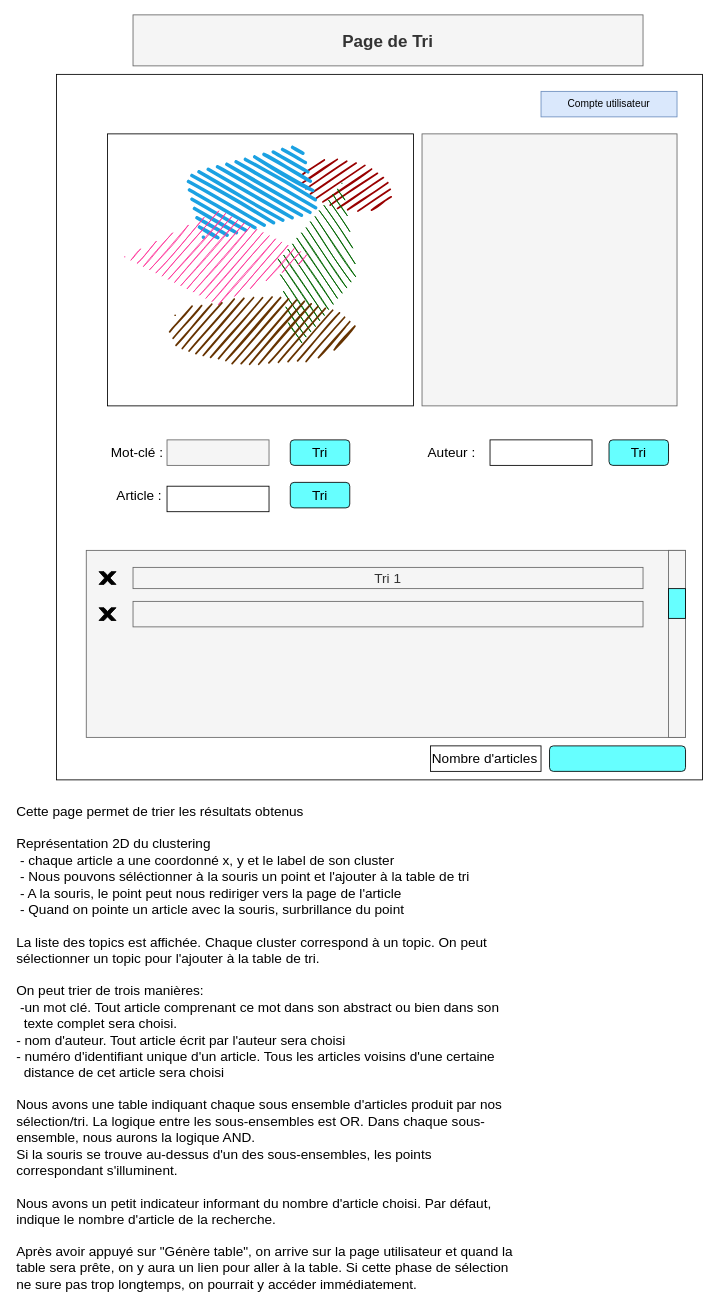
Image size: 717x1308. Some labels were removed from this diagram. Here are the shapes that lost their labels. From the top down, the centre of each, then its label:
point (549, 269): Liste des topics 1. Topic1 2. Topic2 etc...
point (387, 614): Tri2
point (617, 758): Génère Table
